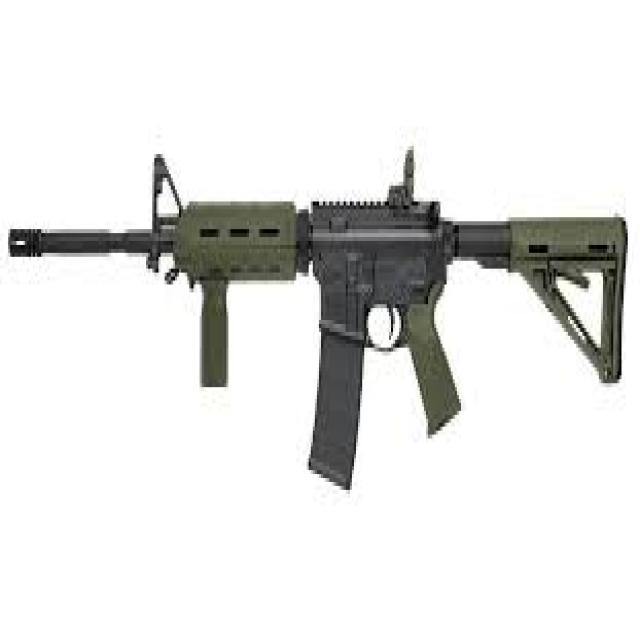rifle: (5, 144, 634, 504)
